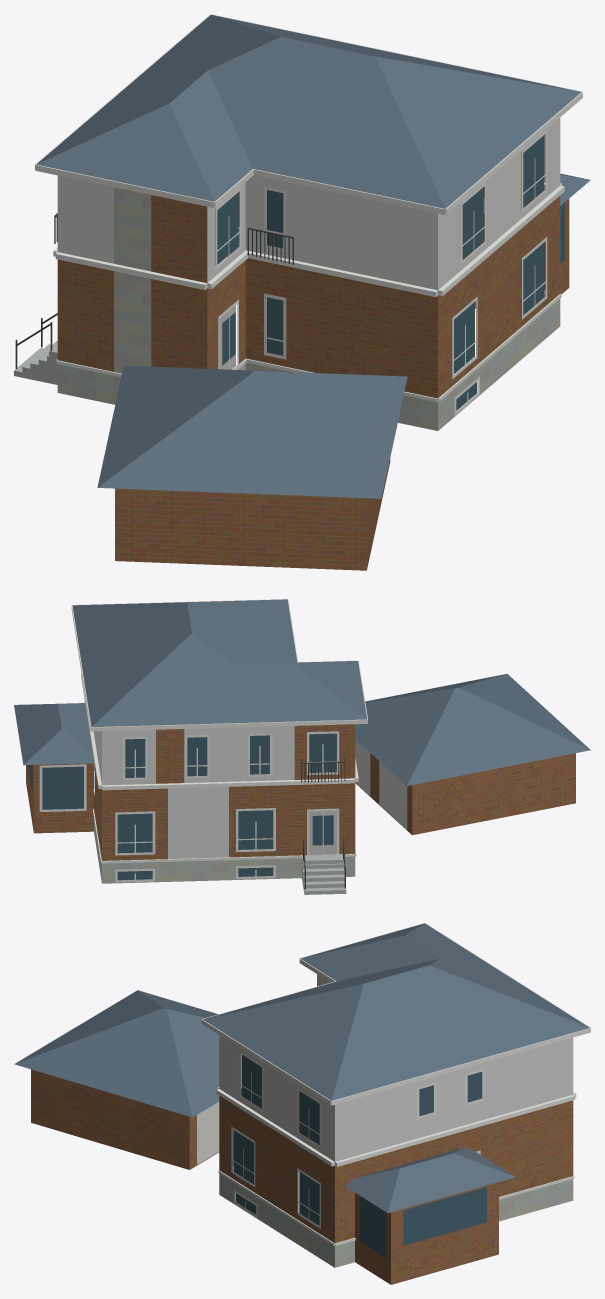
Rendered from daimler-1338-study.glb.
The picture shows the model from 3 angles, top to bottom: view 1: azimuth 30°, elevation 25°; view 2: azimuth 150°, elevation 25°; view 3: azimuth 270°, elevation 25°; orthographic projection. The views are drawn at different scales.
Parts seen in each view (by area): view 1: Slate-blue shingle roof - A701 colour reference, Tan brick - material label A201; illustrative texture, Slate-blue shingle roof - A701 colour reference - garage con, Light-grey stucco - A201, Tan brick - material label A201; illustrative texture - gara, Light fascia and window trim - A701, Light stone - A201; illustrative coursing, Dark blue glazing - no interior geometry, Neutral exterior entrance steps, Dark balcony and entrance railings; view 2: Slate-blue shingle roof - A701 colour reference, Slate-blue shingle roof - A701 colour reference - garage con, Tan brick - material label A201; illustrative texture, Light-grey stucco - A201, Light fascia and window trim - A701, Dark blue glazing - no interior geometry, Tan brick - material label A201; illustrative texture - gara, Light stone - A201; illustrative coursing, Light fascia and window trim - A701 - garage context, Neutral exterior entrance steps, Dark balcony and entrance railings, Neutral doors; view 3: Slate-blue shingle roof - A701 colour reference, Tan brick - material label A201; illustrative texture, Light-grey stucco - A201, Slate-blue shingle roof - A701 colour reference - garage con, Tan brick - material label A201; illustrative texture - gara, Dark blue glazing - no interior geometry, Light fascia and window trim - A701, Light stone - A201; illustrative coursing, Light fascia and window trim - A701 - garage context.
Boxes of the visible parts, left/top/right/bottom form: Slate-blue shingle roof - A701 colour reference: left=36, top=14, right=590, bottom=213; Tan brick - material label A201; illustrative texture: left=57, top=186, right=569, bottom=398; Slate-blue shingle roof - A701 colour reference - garage con: left=97, top=365, right=407, bottom=498; Light-grey stucco - A201: left=57, top=118, right=560, bottom=290; Tan brick - material label A201; illustrative texture - gara: left=115, top=458, right=390, bottom=570; Light fascia and window trim - A701: left=35, top=14, right=582, bottom=415; Light stone - A201; illustrative coursing: left=57, top=187, right=560, bottom=430; Dark blue glazing - no interior geometry: left=215, top=135, right=564, bottom=410; Neutral exterior entrance steps: left=14, top=340, right=57, bottom=384; Dark balcony and entrance railings: left=15, top=213, right=293, bottom=369; Slate-blue shingle roof - A701 colour reference: left=14, top=599, right=366, bottom=765; Slate-blue shingle roof - A701 colour reference - garage con: left=355, top=674, right=590, bottom=785; Tan brick - material label A201; illustrative texture: left=26, top=701, right=355, bottom=860; Light-grey stucco - A201: left=93, top=726, right=294, bottom=858; Light fascia and window trim - A701: left=39, top=599, right=367, bottom=882; Dark blue glazing - no interior geometry: left=28, top=733, right=336, bottom=880; Tan brick - material label A201; illustrative texture - gara: left=355, top=753, right=575, bottom=835; Light stone - A201; illustrative coursing: left=94, top=763, right=355, bottom=883; Light fascia and window trim - A701 - garage context: left=355, top=739, right=407, bottom=829; Neutral exterior entrance steps: left=302, top=855, right=346, bottom=894; Dark balcony and entrance railings: left=301, top=759, right=345, bottom=889; Neutral doors: left=309, top=810, right=336, bottom=854; Slate-blue shingle roof - A701 colour reference: left=203, top=923, right=589, bottom=1212; Tan brick - material label A201; illustrative texture: left=219, top=1088, right=573, bottom=1284; Light-grey stucco - A201: left=219, top=974, right=573, bottom=1161; Slate-blue shingle roof - A701 colour reference - garage con: left=14, top=990, right=219, bottom=1117; Tan brick - material label A201; illustrative texture - gara: left=31, top=1069, right=218, bottom=1169; Dark blue glazing - no interior geometry: left=233, top=1055, right=486, bottom=1257; Light fascia and window trim - A701: left=201, top=923, right=590, bottom=1245; Light stone - A201; illustrative coursing: left=219, top=1169, right=573, bottom=1267; Light fascia and window trim - A701 - garage context: left=197, top=1102, right=219, bottom=1164.
Size of the model in its own units: 21.57 by 9.27 by 21.72.
9 materials, 2 textured.
